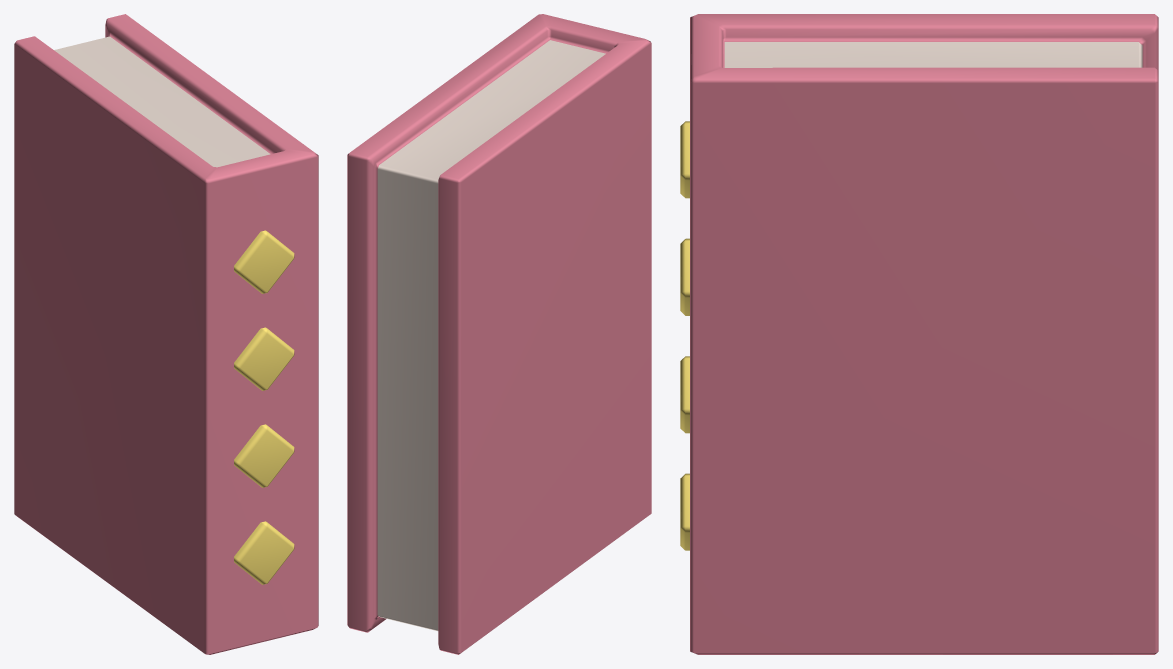
The model's file is Book_17.glb.
3 renders of one model, left to right at view 1: azimuth 30°, elevation 25°; view 2: azimuth 150°, elevation 25°; view 3: azimuth 270°, elevation 25°, orthographic. The views are drawn at different scales.
Visible parts, largest first — view 1: Book_17; view 2: Book_17; view 3: Book_17.
Boxes of the visible parts, x1,y1,x2,y2 form: Book_17: (14, 14, 318, 654); Book_17: (347, 14, 651, 654); Book_17: (680, 14, 1158, 654).
Bounding box in the file's own units: 0.0986 × 0.3928 × 0.2954.
1 material, 1 textured.
